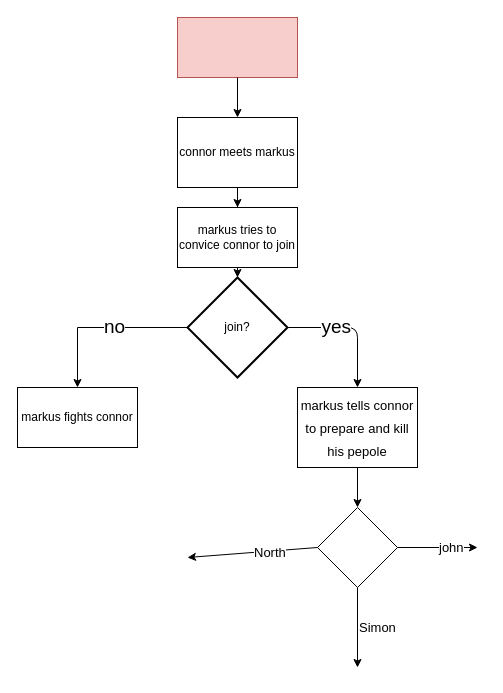
Image size: 503x693. Some labels were removed from this diagram. Here are the shapes that lost their labels. From the top down, the centre of each, then its label:
At point 237,47: "Prolouge A".
At point 357,547: "who reaches exit first?".
